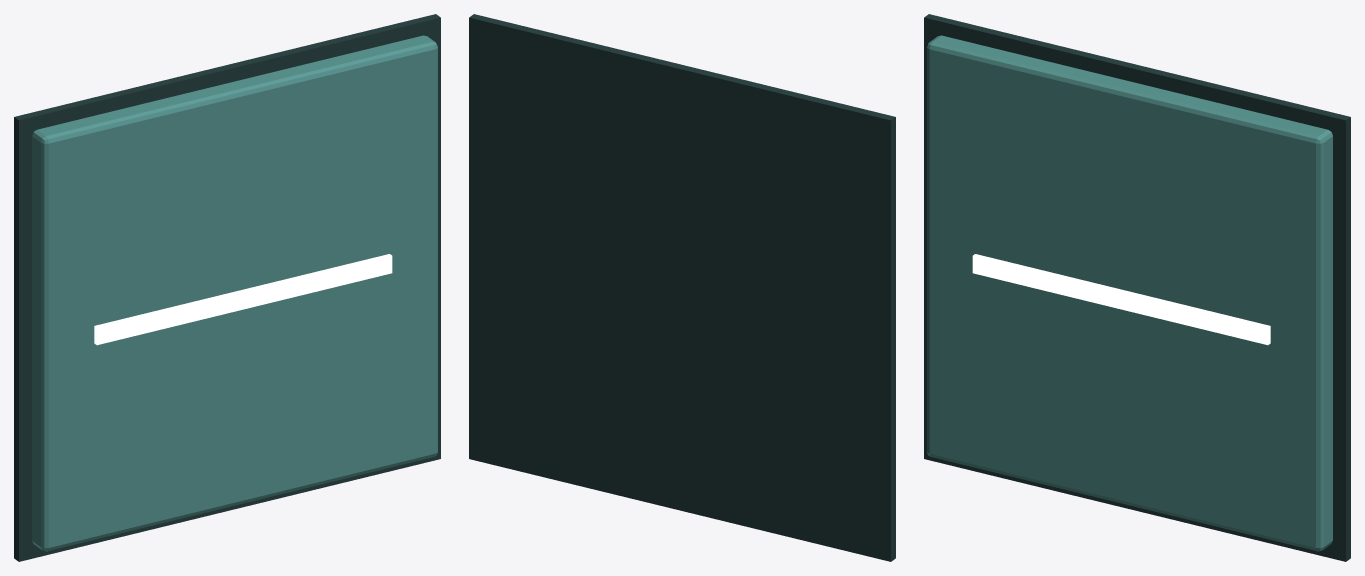
File: piso.glb
3 renders of one model, left to right at view 1: azimuth 30°, elevation 25°; view 2: azimuth 150°, elevation 25°; view 3: azimuth 330°, elevation 25°, orthographic.
Parts seen in each view (by area): view 1: placa, rejunte, trilha; view 2: rejunte; view 3: placa, rejunte, trilha.
Part boxes in pixels (x1,y1,x2,y2): placa: (32, 35, 437, 551); rejunte: (14, 14, 440, 561); trilha: (94, 254, 392, 345); rejunte: (469, 14, 895, 561); placa: (927, 35, 1332, 551); rejunte: (924, 14, 1350, 561); trilha: (972, 254, 1270, 345).
Size of the model in its own units: 1 by 1 by 0.08.
